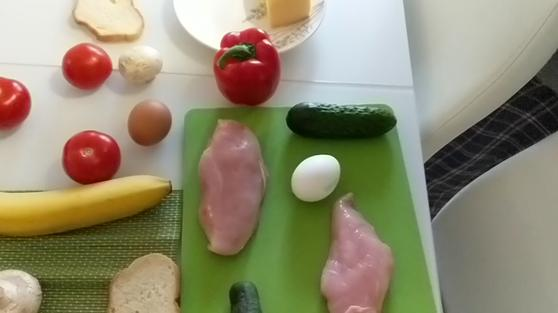banana: (1, 175, 178, 237)
champignon: (1, 268, 50, 308), (118, 44, 165, 85)
chicken_fillet: (200, 115, 268, 259), (321, 199, 395, 313)
cucumber: (281, 99, 400, 138), (224, 278, 265, 313)
egg: (124, 95, 175, 147), (290, 152, 340, 202)
pepper: (214, 31, 286, 106), (260, 1, 318, 24)
tomato: (64, 128, 122, 190), (64, 41, 115, 92), (1, 76, 32, 128)
white_bread: (106, 251, 181, 313), (71, 1, 146, 41)
